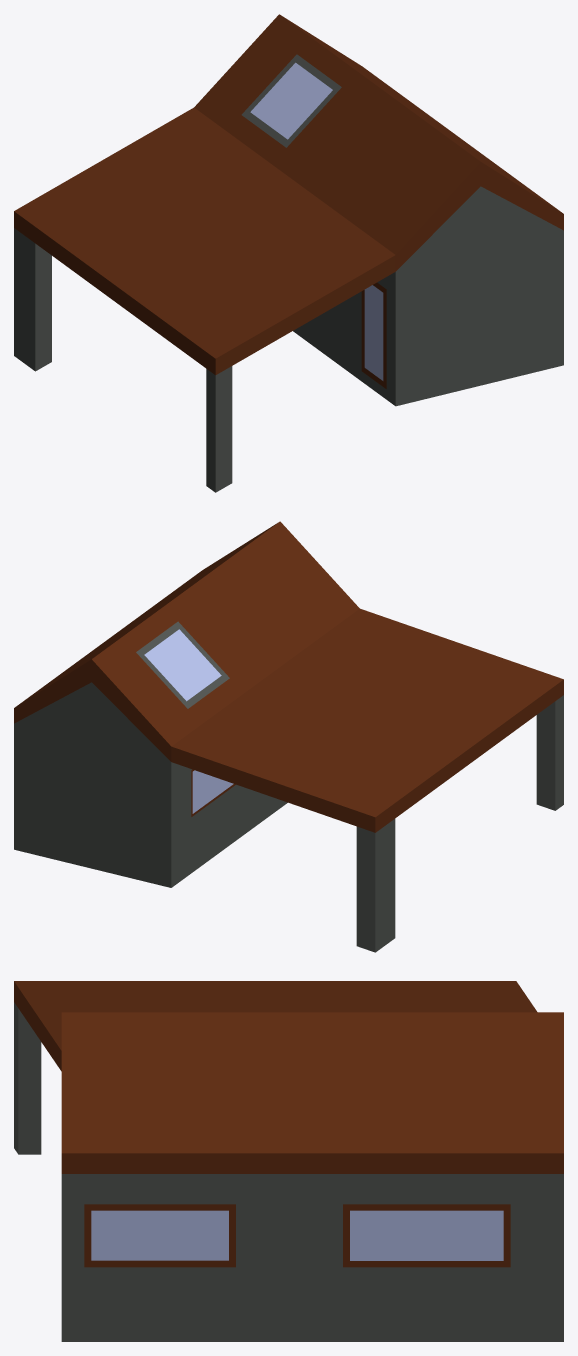
The model's file is hose(1).fbx.
3 renders of one model, top to bottom at view 1: azimuth 30°, elevation 25°; view 2: azimuth 150°, elevation 25°; view 3: azimuth 270°, elevation 25°, orthographic. The views are drawn at different scales.
Visible parts, largest first — view 1: finish line; view 2: finish line; view 3: finish line.
Part boxes in pixels (x1,y1,x2,y2): finish line: (14,14,563,492); finish line: (14,521,563,952); finish line: (14,981,563,1341).
Bounding box in the file's own units: 501 × 336 × 521.
